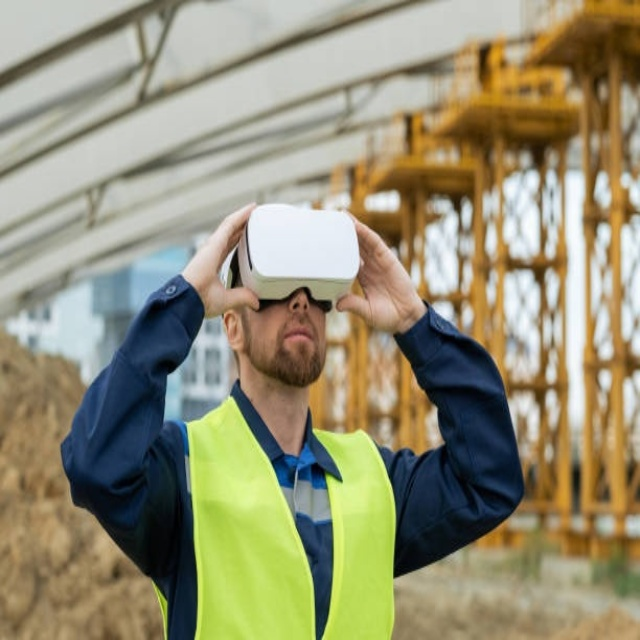Sin_guantes: (332, 214, 423, 337), (178, 193, 264, 322)
Sin_mascara: (273, 320, 318, 369)
